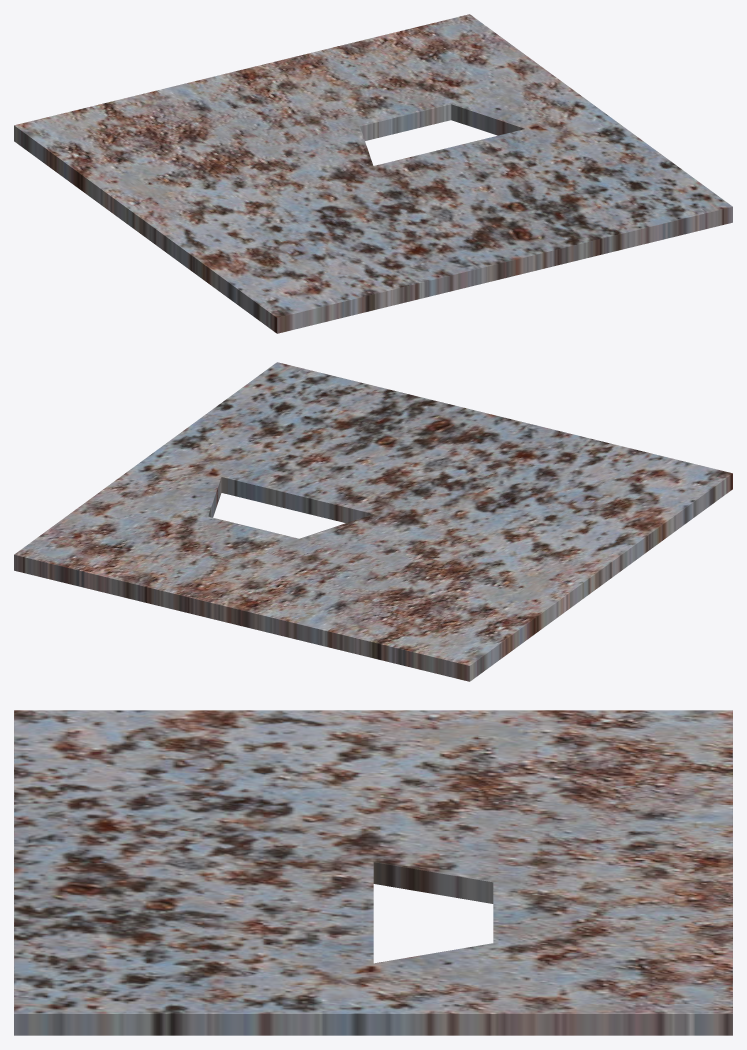
The model's file is Outerplane.FBX.
The picture shows the model from 3 angles, top to bottom: view 1: azimuth 30°, elevation 25°; view 2: azimuth 150°, elevation 25°; view 3: azimuth 270°, elevation 25°; orthographic projection. The views are drawn at different scales.
Parts seen in each view (by area): view 1: PlaneTrapezoid; view 2: PlaneTrapezoid; view 3: PlaneTrapezoid.
Boxes of the visible parts, box(x1,y1,x2,y2) form: PlaneTrapezoid: box(14, 14, 732, 333); PlaneTrapezoid: box(14, 362, 732, 681); PlaneTrapezoid: box(14, 710, 732, 1035).
Bounding box in the file's own units: 300 × 10 × 300.
Materials: 1 (1 with a texture image).
